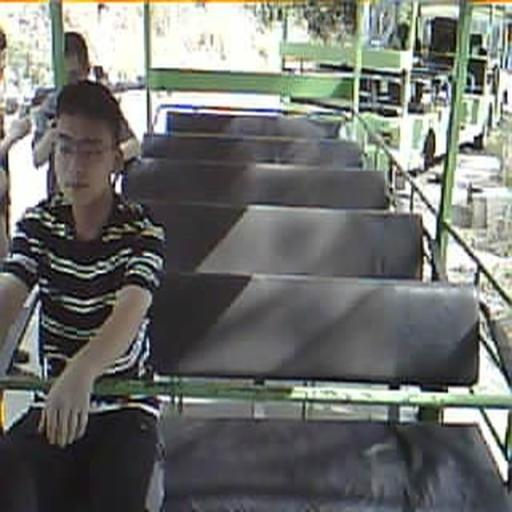persona: (0, 78, 168, 510)
